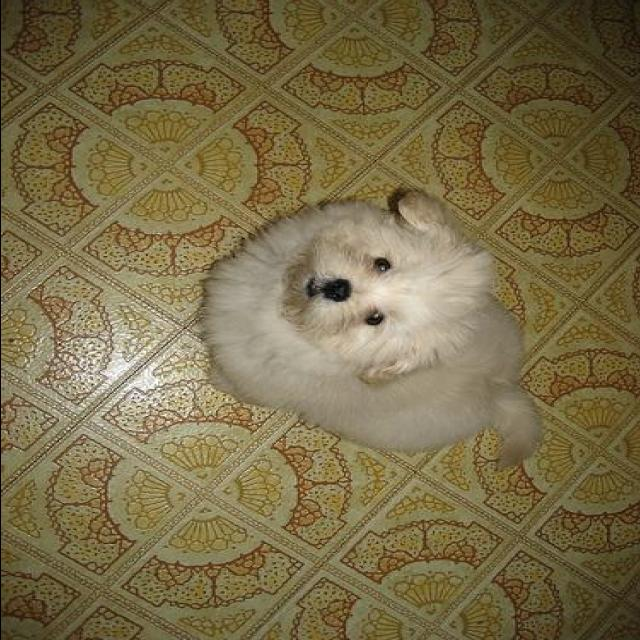pekinese: (194, 183, 546, 479)
